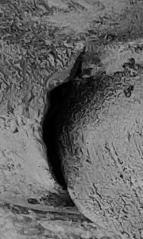crack: (0, 1, 143, 239)
